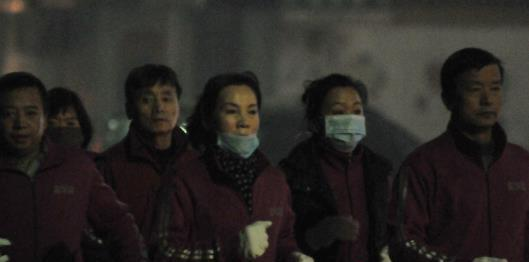NONE: (462, 77, 505, 127), (1, 104, 47, 150), (138, 89, 178, 132)
OK: (320, 98, 369, 147), (43, 112, 86, 155)
WRONG: (210, 97, 267, 154)
